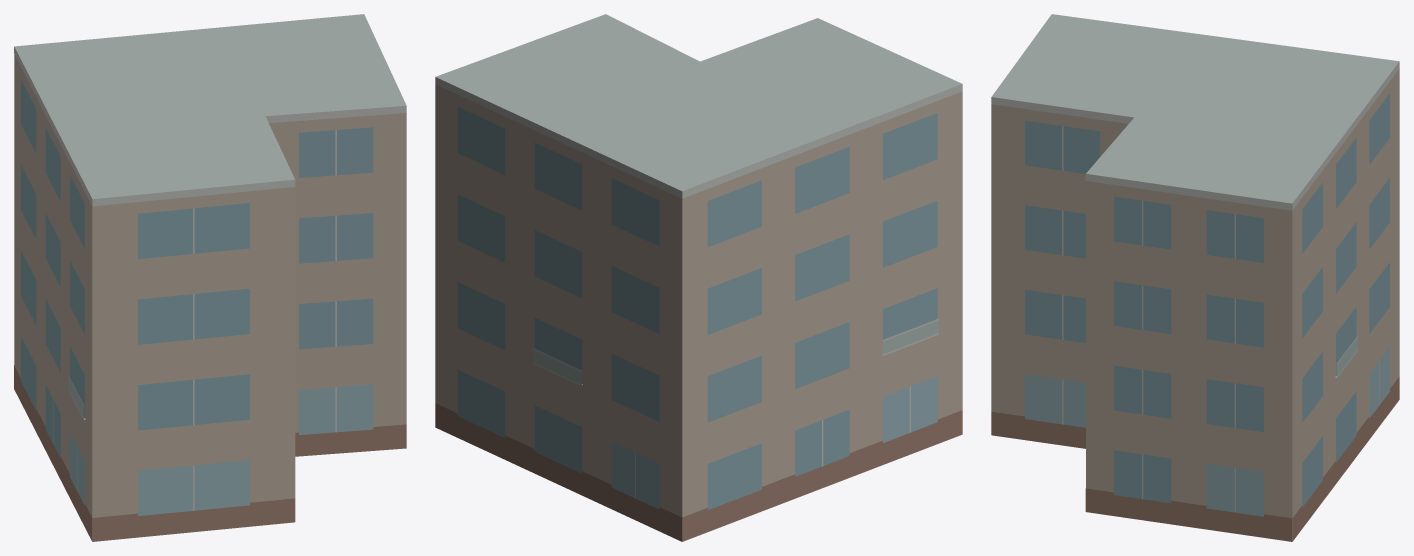
The model's file is survey-upis-32513289.glb.
3 views of the same model, side by side, from view 1: azimuth 30°, elevation 25°; view 2: azimuth 150°, elevation 25°; view 3: azimuth 270°, elevation 25° (orthographic). The views are drawn at different scales.
Parts seen in each view (by area): view 1: survey-upis-32513289.tmp; view 2: survey-upis-32513289.tmp; view 3: survey-upis-32513289.tmp.
Part boxes in pixels (box(x1,y1,x2,y2)): survey-upis-32513289.tmp: box(14, 14, 406, 541); survey-upis-32513289.tmp: box(435, 14, 962, 541); survey-upis-32513289.tmp: box(991, 14, 1399, 541).
Size of the model in its own units: 13.96 by 11.6 by 12.7.
